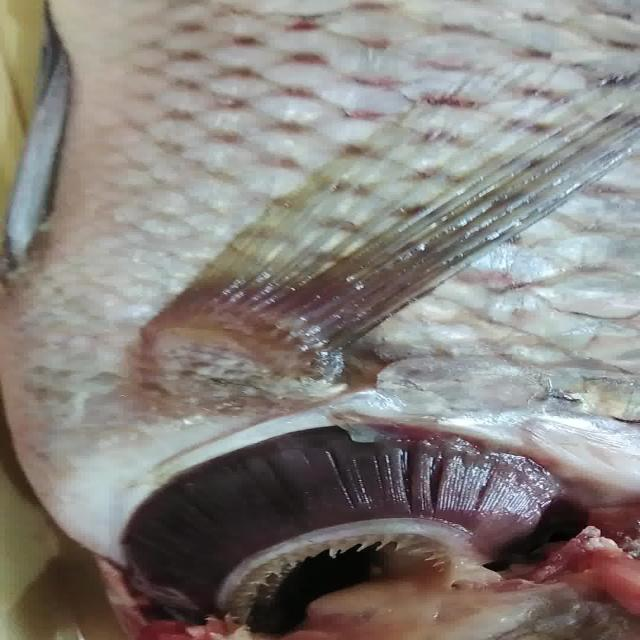Non-Fresh: (109, 424, 569, 624)
